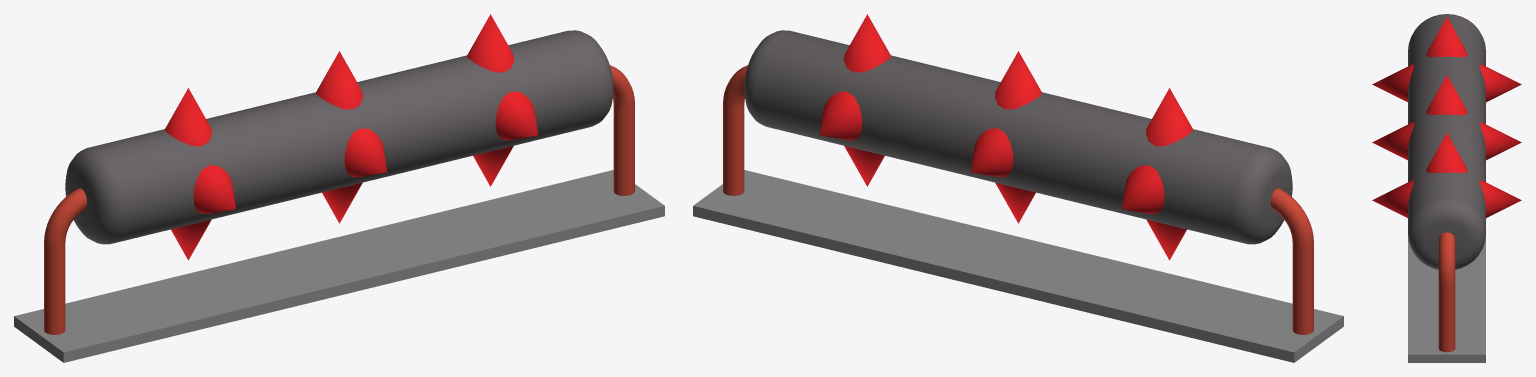
The model's file is yataydonenengel.fbx.
3 renders of one model, left to right at view 1: azimuth 30°, elevation 25°; view 2: azimuth 150°, elevation 25°; view 3: azimuth 270°, elevation 25°, orthographic. The views are drawn at different scales.
Visible parts, largest first — view 1: donenkisim, altkisim; view 2: donenkisim, altkisim; view 3: donenkisim, altkisim.
Part boxes in pixels (left/top/right/bottom): donenkisim: left=65, top=14, right=613, bottom=260; altkisim: left=14, top=65, right=664, bottom=362; donenkisim: left=744, top=14, right=1292, bottom=260; altkisim: left=693, top=65, right=1343, bottom=362; donenkisim: left=1372, top=14, right=1521, bottom=269; altkisim: left=1408, top=232, right=1485, bottom=362.
Bounding box in the file's own units: 1397 × 490 × 384.
